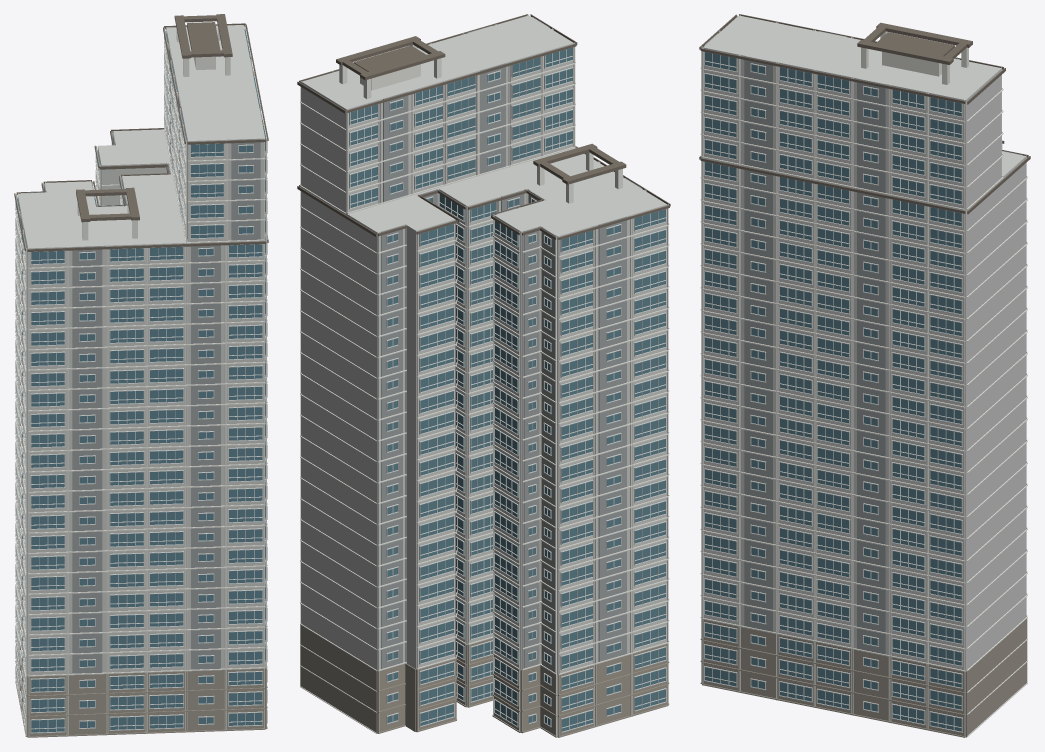
The model's file is bespoke-banpo-xi-104.glb.
The picture shows the model from 3 angles, left to right: view 1: azimuth 30°, elevation 25°; view 2: azimuth 150°, elevation 25°; view 3: azimuth 270°, elevation 25°; orthographic projection. The views are drawn at different scales.
Parts seen in each view (by area): view 1: BX104_editable_BX104_pale_silver_limestone001, BX104_editable_BX104_blue_grey_broad_glazing001, BX104_editable_BX104_white_window_frames001, BX104_editable_BX104_ivory_course_bands001, BX104_editable_BX104_grey_service_core001, BX104_editable_BX104_warm_ground_stone001, BX104_editable_BX104_dark_coping001; view 2: BX104_editable_BX104_pale_silver_limestone001, BX104_editable_BX104_blue_grey_broad_glazing001, BX104_editable_BX104_white_window_frames001, BX104_editable_BX104_ivory_course_bands001, BX104_editable_BX104_grey_service_core001, BX104_editable_BX104_warm_ground_stone001, BX104_editable_BX104_dark_coping001; view 3: BX104_editable_BX104_pale_silver_limestone001, BX104_editable_BX104_blue_grey_broad_glazing001, BX104_editable_BX104_white_window_frames001, BX104_editable_BX104_ivory_course_bands001, BX104_editable_BX104_grey_service_core001, BX104_editable_BX104_warm_ground_stone001, BX104_editable_BX104_dark_coping001.
Boxes of the visible parts, bbox=[...] form: BX104_editable_BX104_pale_silver_limestone001: bbox=[17, 25, 265, 675]; BX104_editable_BX104_blue_grey_broad_glazing001: bbox=[16, 28, 265, 732]; BX104_editable_BX104_white_window_frames001: bbox=[15, 28, 267, 733]; BX104_editable_BX104_ivory_course_bands001: bbox=[15, 25, 267, 736]; BX104_editable_BX104_grey_service_core001: bbox=[20, 45, 262, 673]; BX104_editable_BX104_warm_ground_stone001: bbox=[15, 640, 267, 737]; BX104_editable_BX104_dark_coping001: bbox=[14, 14, 268, 251]; BX104_editable_BX104_pale_silver_limestone001: bbox=[301, 15, 667, 736]; BX104_editable_BX104_blue_grey_broad_glazing001: bbox=[349, 47, 665, 731]; BX104_editable_BX104_white_window_frames001: bbox=[349, 47, 666, 732]; BX104_editable_BX104_ivory_course_bands001: bbox=[300, 15, 669, 736]; BX104_editable_BX104_grey_service_core001: bbox=[381, 17, 642, 672]; BX104_editable_BX104_warm_ground_stone001: bbox=[300, 625, 669, 737]; BX104_editable_BX104_dark_coping001: bbox=[297, 14, 670, 239]; BX104_editable_BX104_pale_silver_limestone001: bbox=[703, 15, 1026, 736]; BX104_editable_BX104_blue_grey_broad_glazing001: bbox=[705, 52, 961, 731]; BX104_editable_BX104_white_window_frames001: bbox=[704, 51, 962, 732]; BX104_editable_BX104_ivory_course_bands001: bbox=[700, 15, 1027, 737]; BX104_editable_BX104_grey_service_core001: bbox=[704, 31, 1022, 654]; BX104_editable_BX104_warm_ground_stone001: bbox=[700, 618, 1027, 737]; BX104_editable_BX104_dark_coping001: bbox=[699, 14, 1030, 214].
Size of the model in its own units: 40.51 by 81.3 by 36.87.
